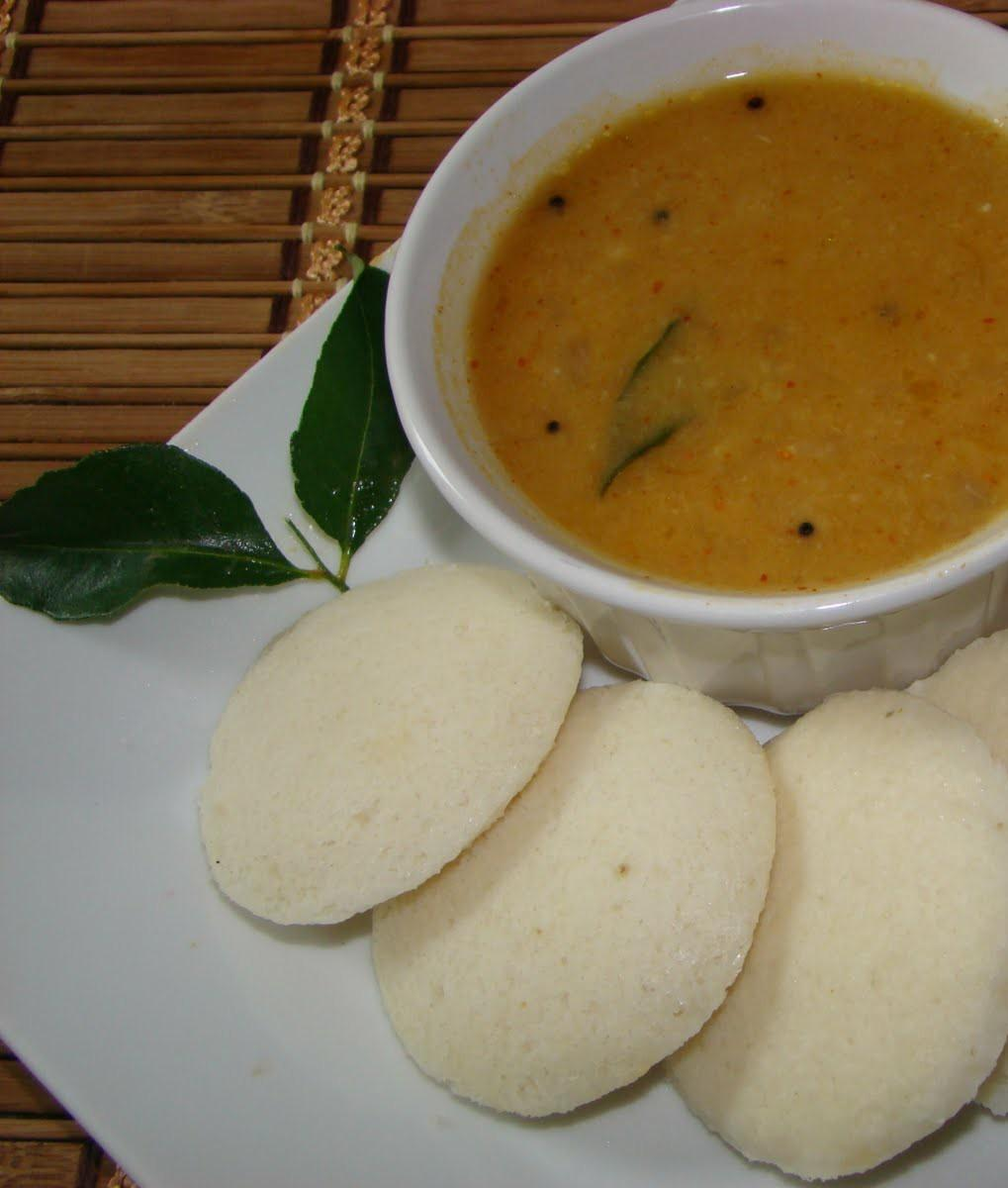Idli: (380, 682, 788, 1122), (661, 686, 1008, 1180), (197, 565, 582, 929), (901, 624, 1008, 1129)
